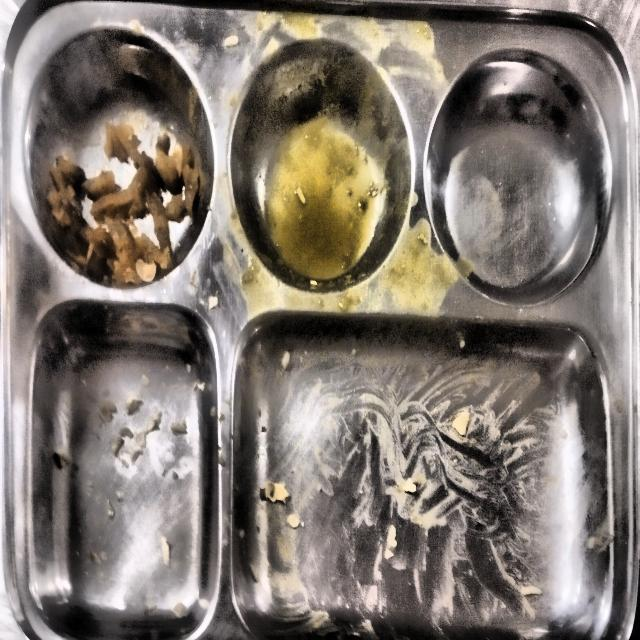gajar-aloo: (47, 123, 201, 285)
